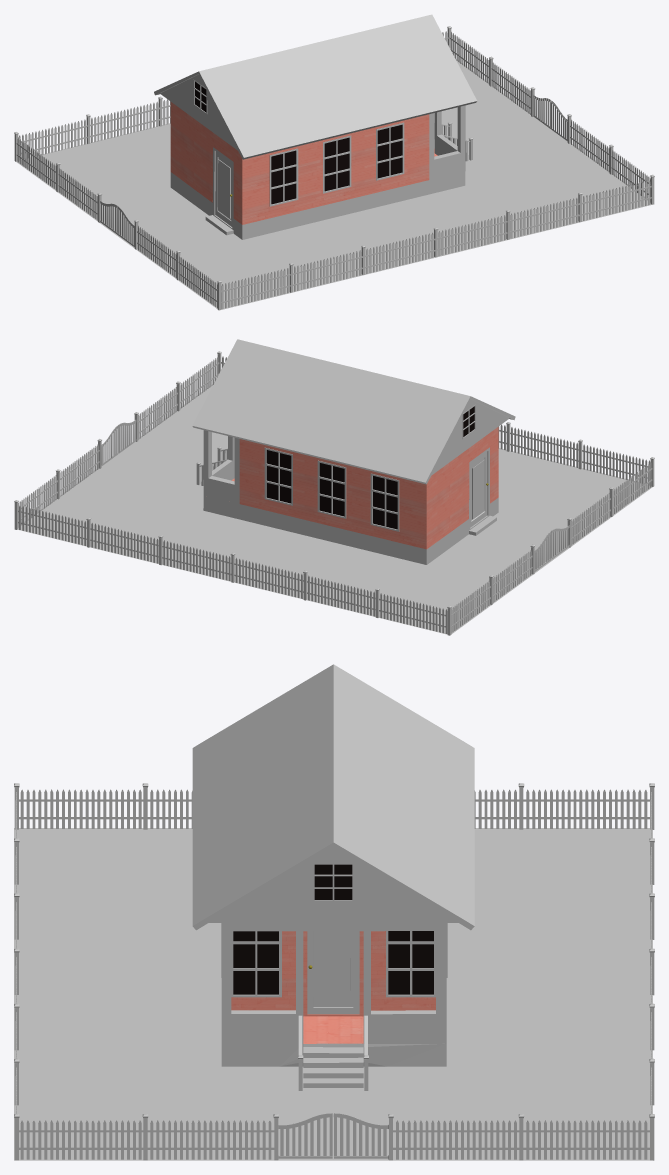
Rendered from House.FBX.
The picture shows the model from 3 angles, top to bottom: view 1: azimuth 30°, elevation 25°; view 2: azimuth 150°, elevation 25°; view 3: azimuth 270°, elevation 25°; orthographic projection. The views are drawn at different scales.
Visible parts, largest first — view 1: grass, roof, cottage_main, fence16, polySurface30, fence19, fence8, fence17, fence18, fence15, fence14, fence9 (+15 smaller); view 2: grass, roof, cottage_main, fence6, fence9, polySurface30, fence5, fence7, fence18, fence4, fence8, fence19 (+15 smaller); view 3: grass, roof, cottage_main, front_door, fence1, fence3, fence2, fence, fence10, fence13, front_entrance_left, front_entrance_right (+4 smaller).
Part boxes in pixels (box(x1,y1,x2,y2)): grass: box(16, 59, 653, 310); roof: box(154, 14, 476, 159); cottage_main: box(170, 102, 465, 239); fence16: box(437, 215, 507, 256); polySurface30: box(212, 147, 233, 229); fence19: box(221, 268, 290, 309); fence8: box(90, 101, 159, 142); fence17: box(365, 232, 435, 273); fence18: box(293, 250, 362, 291); fence15: box(510, 197, 579, 238); fence14: box(582, 180, 651, 220); fence9: box(19, 119, 87, 160); grass: box(18, 384, 652, 634); roof: box(192, 339, 515, 484); cottage_main: box(203, 427, 498, 564); fence6: box(162, 540, 231, 581); fence9: box(379, 593, 447, 633); polySurface30: box(469, 447, 489, 530); fence5: box(90, 522, 158, 563); fence7: box(234, 557, 303, 598); fence18: box(510, 427, 578, 467); fence4: box(18, 505, 86, 545); fence8: box(307, 575, 375, 616); fence19: box(582, 444, 650, 485); grass: box(14, 828, 652, 1160); roof: box(192, 664, 474, 930); cottage_main: box(221, 923, 446, 1087); front_door: box(307, 931, 359, 1014); fence1: box(147, 1120, 274, 1159); fence3: box(523, 1120, 649, 1159); fence2: box(393, 1120, 519, 1159); fence: box(19, 1120, 143, 1159); fence10: box(523, 789, 649, 828); fence13: box(19, 789, 143, 828); front_entrance_left: box(278, 1113, 332, 1159); front_entrance_right: box(333, 1113, 388, 1159).
Size of the model in its own units: 74.41 by 23.62 by 60.52.
